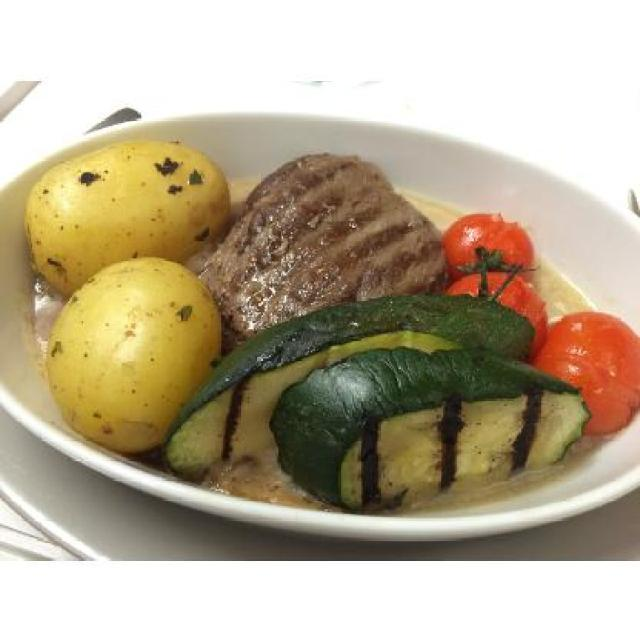Potato: (22, 138, 230, 299)
